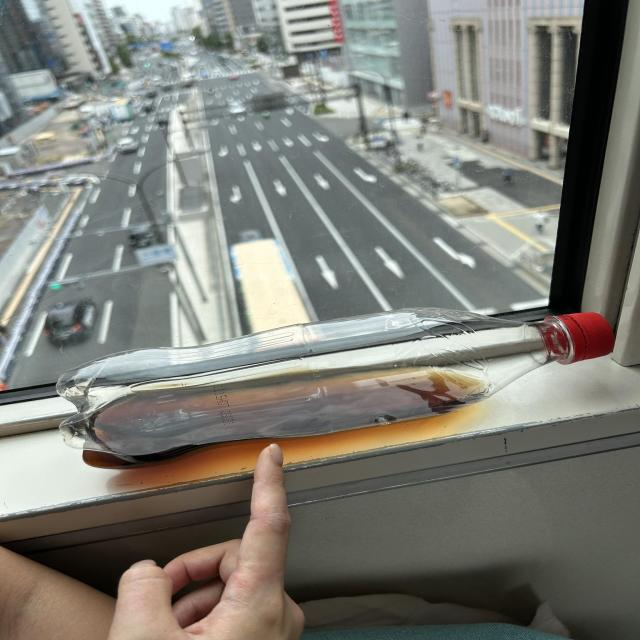low: (57, 308, 614, 468)
